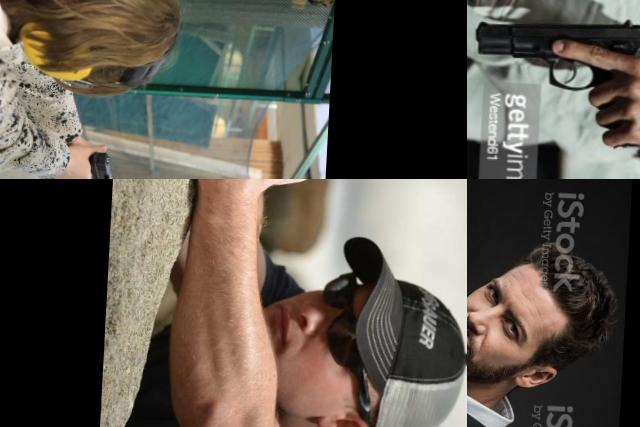handgun: (467, 7, 640, 152), (255, 179, 365, 235), (467, 292, 524, 342), (70, 148, 115, 179)
